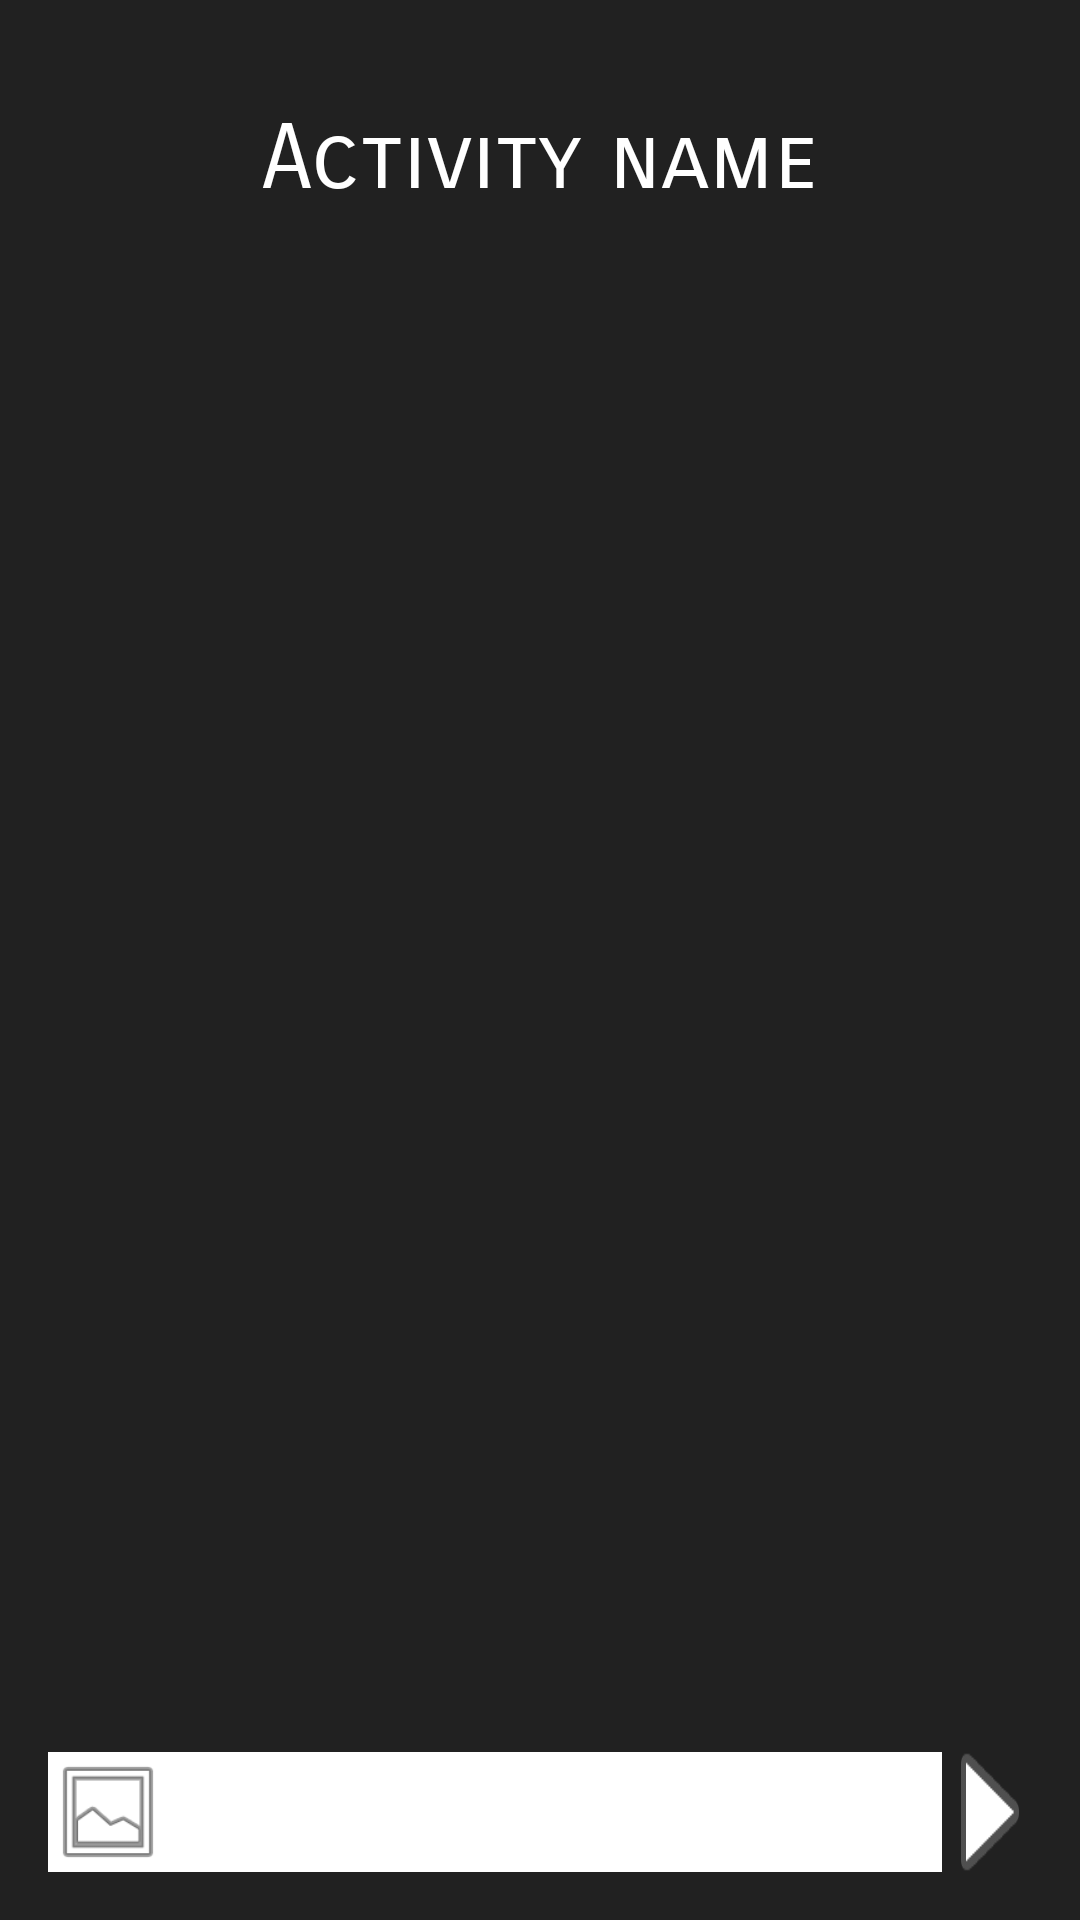

Screen size 1080w x 1920h. Icon name, then its box in pixels as [x1, y1, x2, y2]:
gallery: [48, 1752, 168, 1872]
play: [961, 1754, 1019, 1870]
